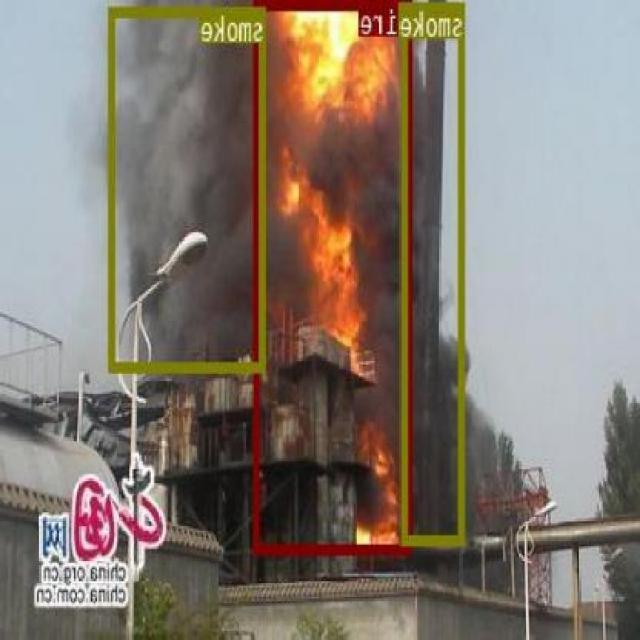Fire: (255, 0, 414, 551)
Smoke: (110, 4, 266, 370), (403, 1, 466, 544)
